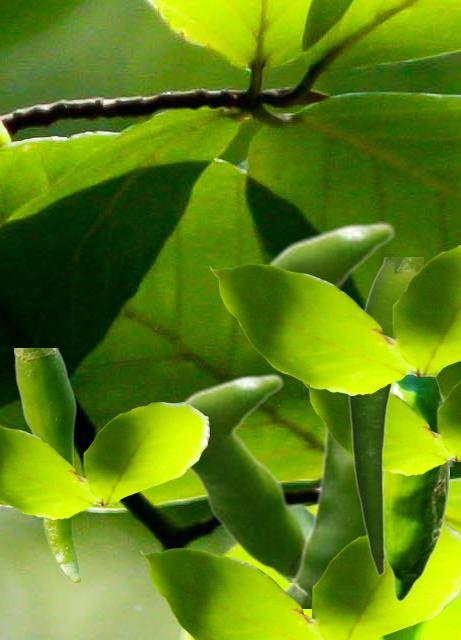green_chili: (262, 221, 453, 465), (178, 373, 313, 581), (348, 257, 422, 575), (283, 421, 365, 607), (14, 348, 79, 582), (384, 375, 448, 600)
